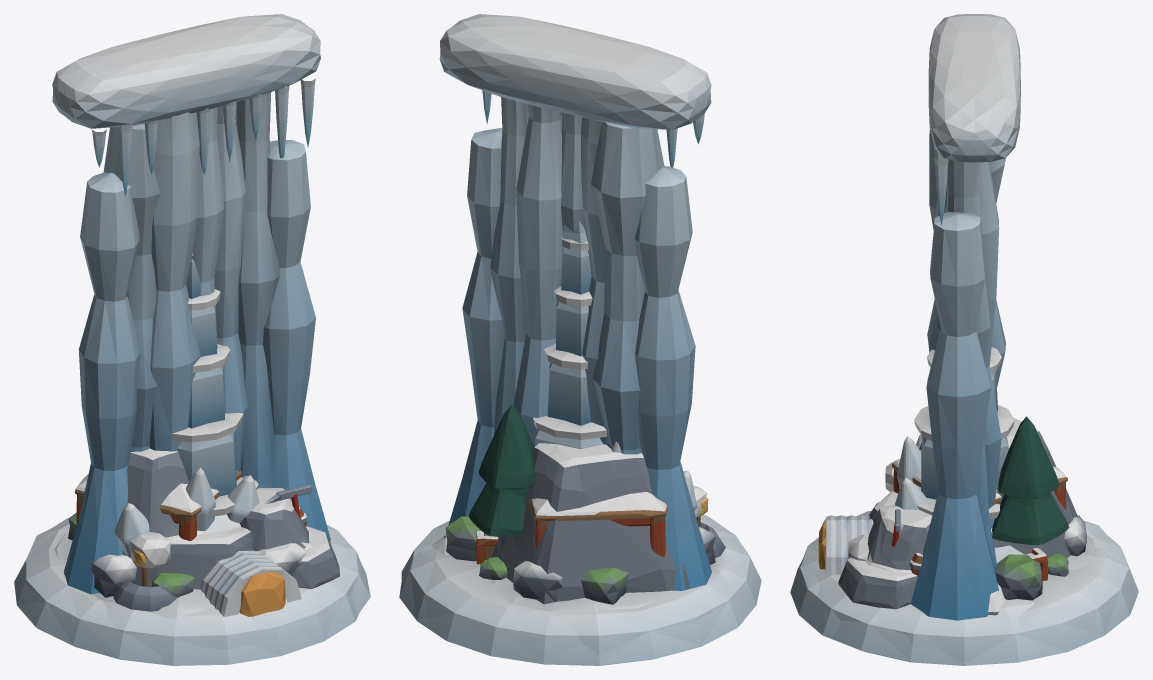
File: glacier-s7-CMFwIBK-.glb
The picture shows the model from 3 angles, left to right: view 1: azimuth 30°, elevation 25°; view 2: azimuth 150°, elevation 25°; view 3: azimuth 270°, elevation 25°; orthographic projection. The views are drawn at different scales.
Parts seen in each view (by area): view 1: sc_falls_axe, sc_z0_1, sc_z0_0, sc_z3_1, sc_serac, sc_igloo, sc_z2_0; view 2: sc_falls_axe, sc_z0_1, sc_z0_0, sc_z3_1, sc_serac; view 3: sc_falls_axe, sc_z0_0, sc_z0_1, sc_z3_1, sc_serac, sc_igloo, sc_z2_0.
Boxes of the visible parts, x1,y1,x2,y2 form: sc_falls_axe: (52,14,330,594); sc_z0_1: (54,448,339,619); sc_z0_0: (25,512,360,665); sc_z3_1: (14,470,370,663); sc_serac: (172,252,258,516); sc_igloo: (201,514,301,616); sc_z2_0: (114,467,259,557); sc_falls_axe: (439,14,711,590); sc_z0_1: (432,404,725,612); sc_z0_0: (399,516,750,665); sc_z3_1: (401,492,761,664); sc_serac: (533,220,606,448); sc_falls_axe: (891,14,1020,620); sc_z0_0: (790,489,1138,665); sc_z0_1: (838,416,1096,621); sc_z3_1: (797,450,1138,664); sc_serac: (899,347,1014,518); sc_igloo: (818,515,1024,577); sc_z2_0: (895,434,925,509).
Size of the model in its own units: 13.67 by 23.38 by 13.61.
